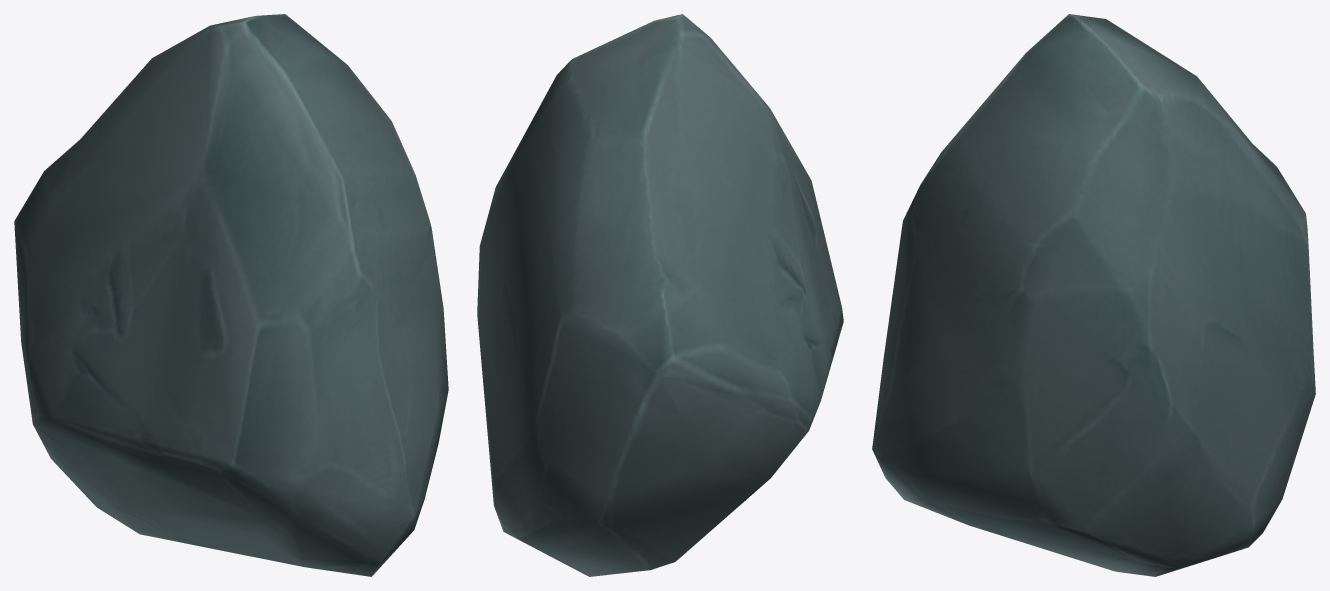
File: rock2.fbx
The picture shows the model from 3 angles, left to right: view 1: azimuth 30°, elevation 25°; view 2: azimuth 150°, elevation 25°; view 3: azimuth 270°, elevation 25°; orthographic projection. The views are drawn at different scales.
Parts seen in each view (by area): view 1: polySurface2146; view 2: polySurface2146; view 3: polySurface2146.
Boxes of the visible parts, x1,y1,x2,y2 form: polySurface2146: (14,14,448,576); polySurface2146: (477,14,843,576); polySurface2146: (872,14,1315,576).
Bounding box in the file's own units: 1.03 × 1.55 × 1.18.
